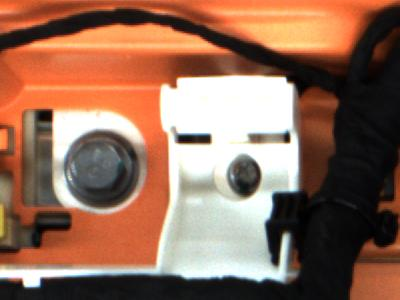nut_b: (56, 132, 147, 209)
